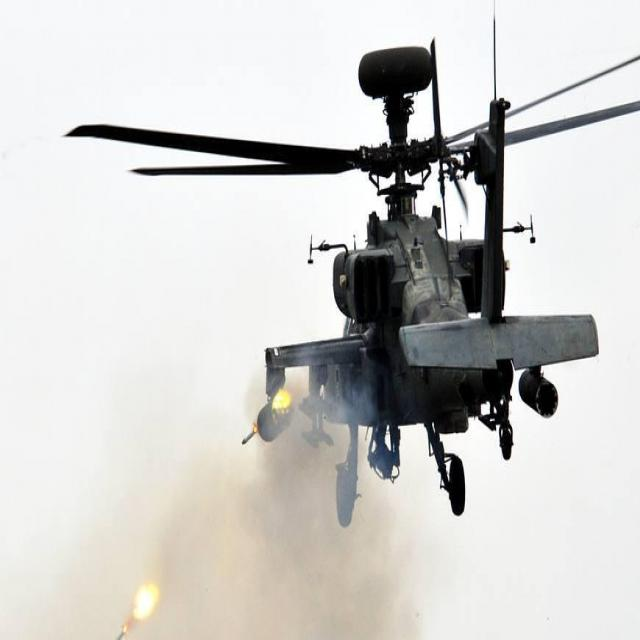MIL_HELO: (58, 38, 640, 533)
